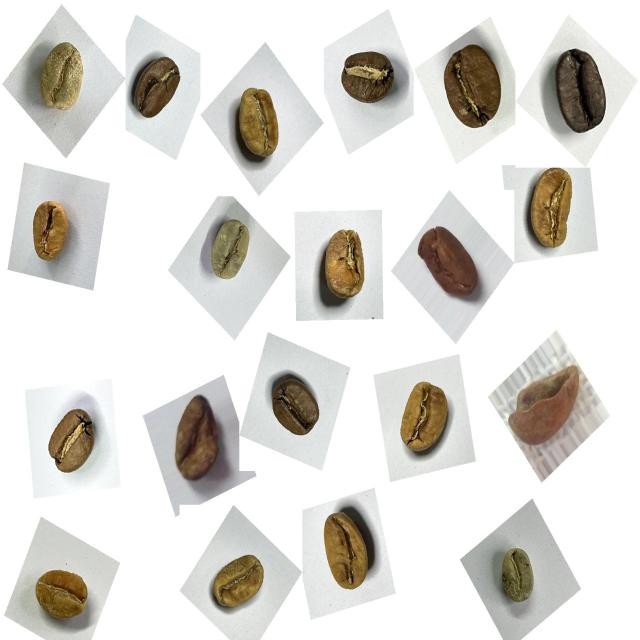bad: (160, 383, 233, 491), (506, 360, 586, 455), (410, 218, 486, 312)
dark: (543, 40, 617, 144)
green: (28, 33, 97, 128), (197, 210, 262, 296), (489, 538, 547, 615)
light: (311, 502, 386, 606), (388, 370, 462, 468), (518, 164, 588, 261), (311, 216, 380, 313), (223, 77, 292, 171), (26, 556, 100, 636), (205, 544, 276, 623), (19, 190, 80, 274)
medium: (429, 39, 512, 146), (35, 399, 106, 488), (260, 368, 330, 448), (126, 47, 192, 130), (332, 40, 402, 116)
